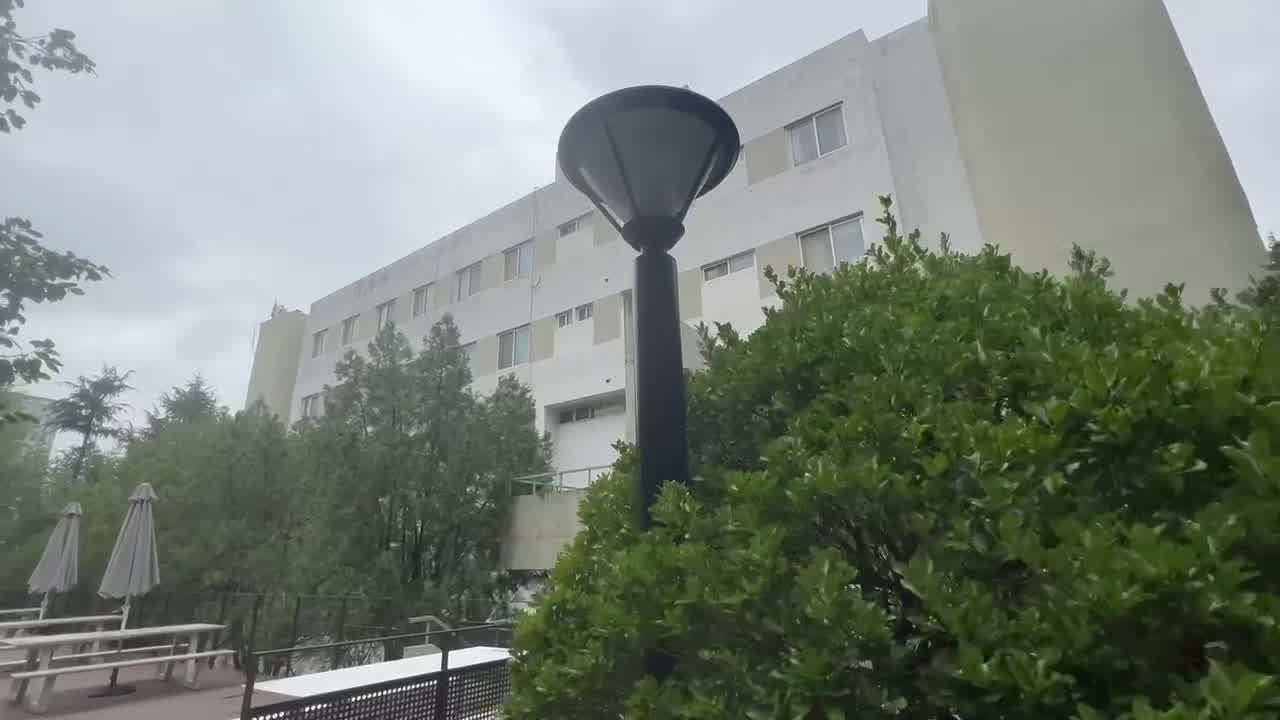building: (744, 23, 1229, 251)
